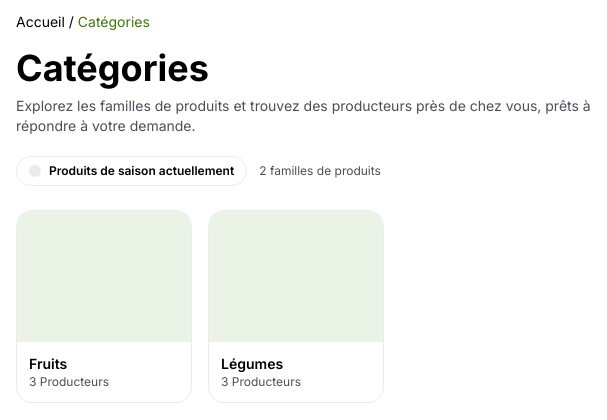
Test: CategoriesComponent › filtre les familles qui ont au moins un produit de saison
Click the button "Produits de saison actuellement": (132, 171) 16,156 -> 247,186
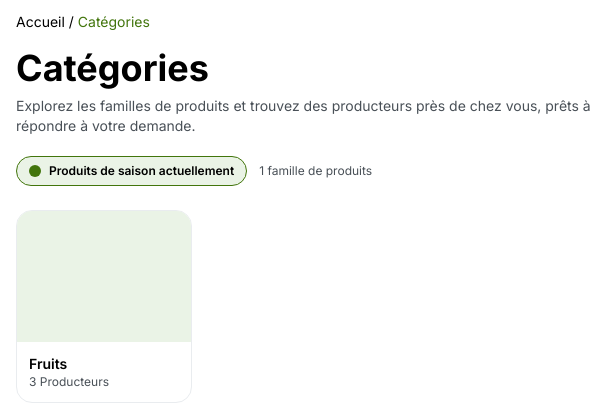
Expected: the text "Fruits" is shown, 29,354 -> 67,372
Now the text "Légumes" is gone
Now the text "1 famille de produits" is shown, box 259,163 -> 372,179
